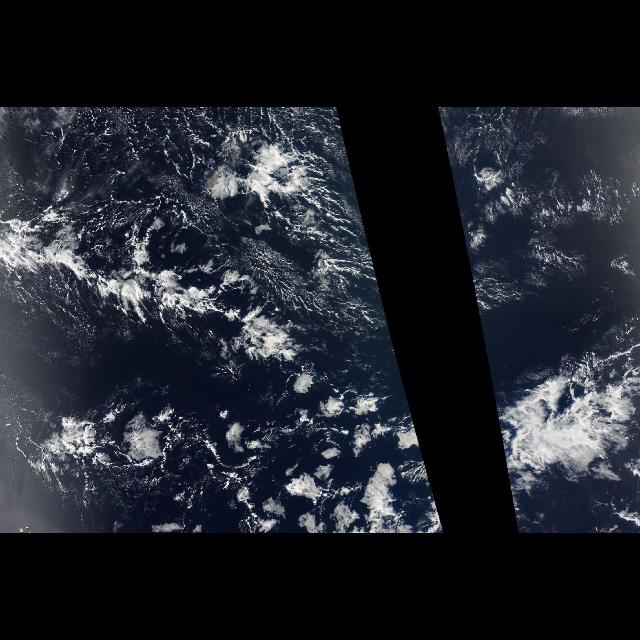Fish: (2, 210, 402, 416)
Flower: (105, 373, 383, 502)
Gravel: (3, 108, 343, 224)
Sugar: (510, 136, 628, 288)
